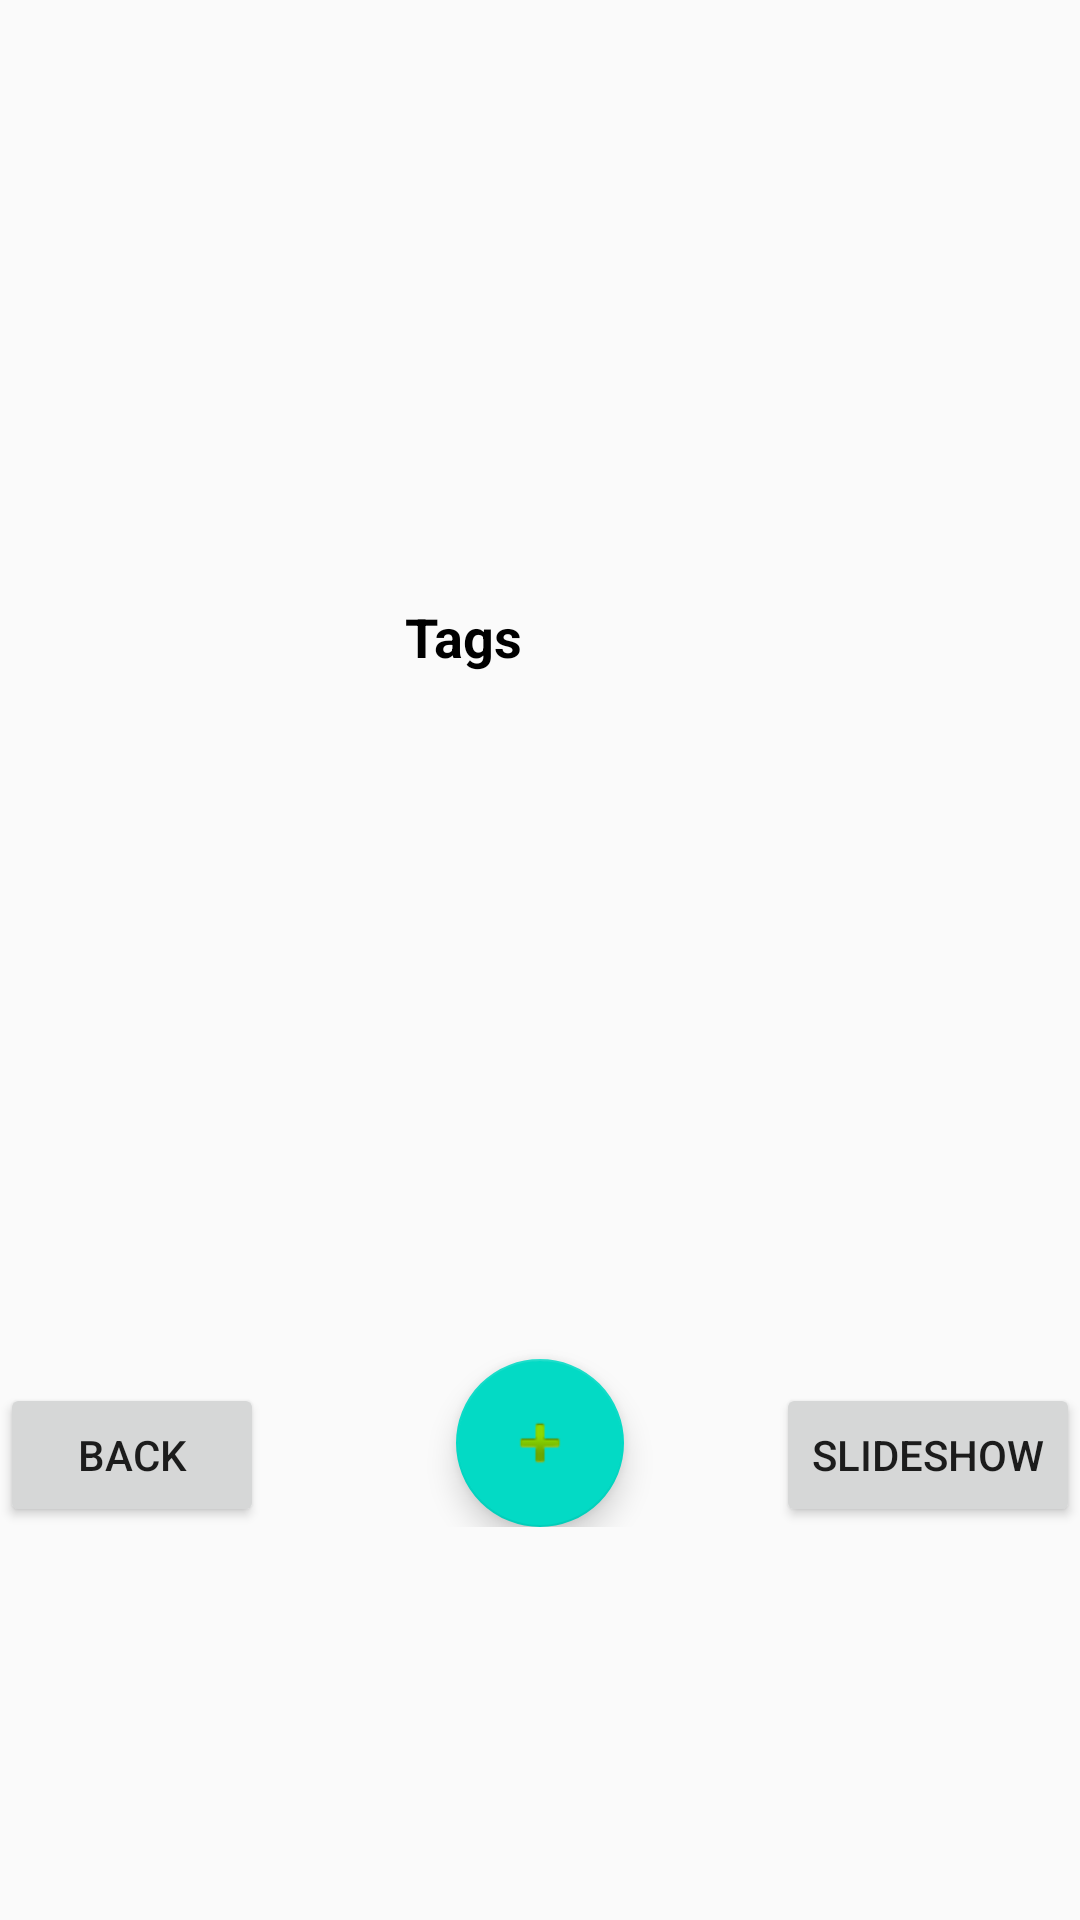

Locate icon controls on the screen. Image size 1080 × 1920, boxes as (left=x1, top=y1, right=x2, bottom=y2).
add: (left=456, top=1359, right=624, bottom=1527)
